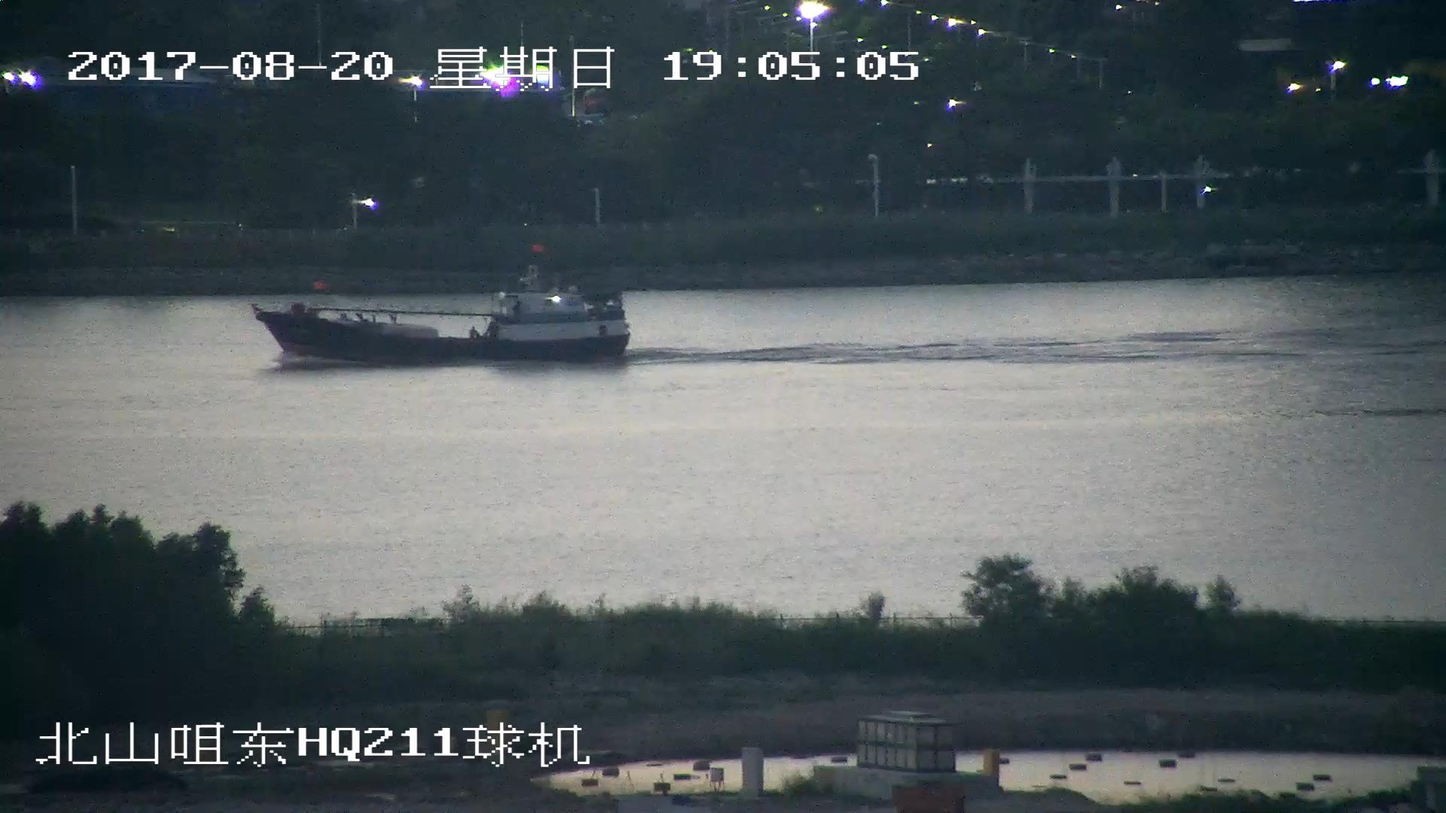fishing boat: (259, 257, 634, 364)
